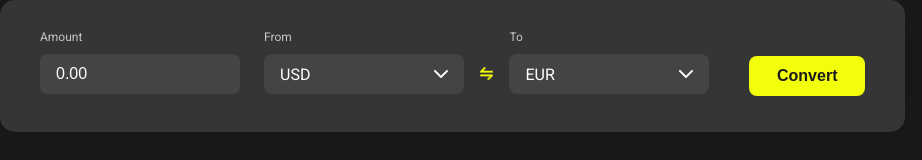
it: form › should switch the currencies values when clicking on switcher
Click the button with test id "switcher" at (487, 74), box [480,65,494,84]
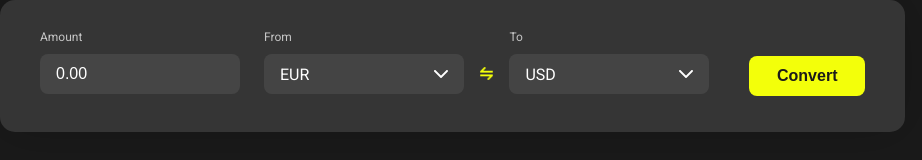
Check: the dropdown below "To" shows "USD", box [510,54,710,94]
Check: the dropdown below "From" shows "EUR", box [264,54,464,94]
